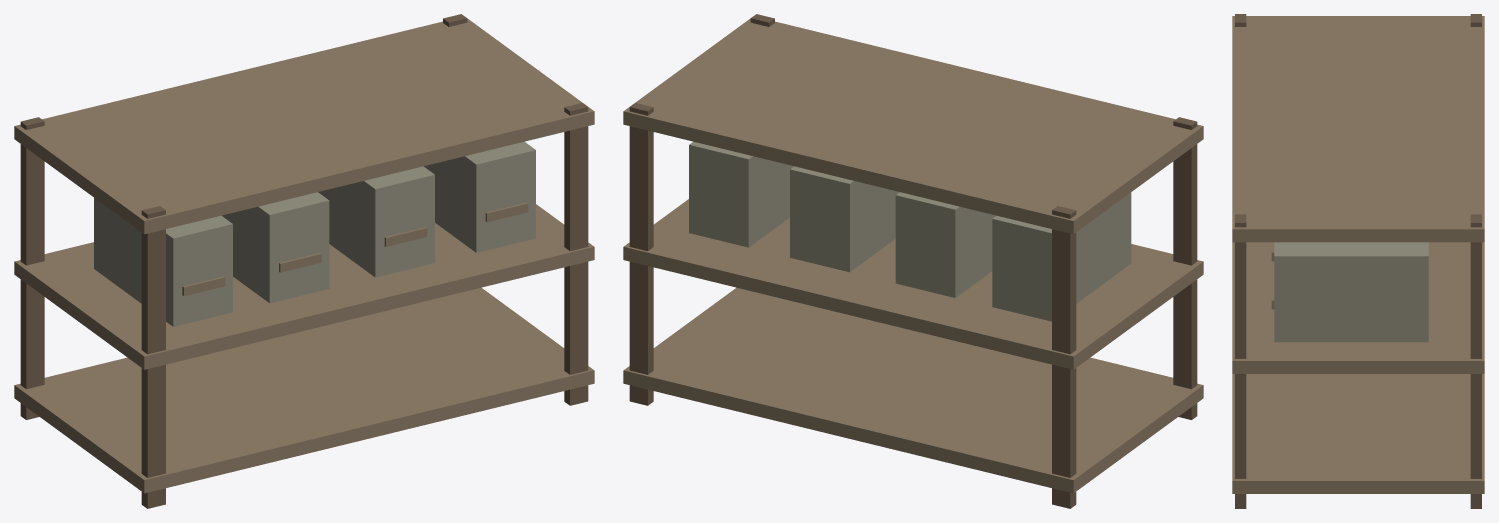
File: hymn_shelf.glb
3 views of the same model, side by side, from view 1: azimuth 30°, elevation 25°; view 2: azimuth 150°, elevation 25°; view 3: azimuth 270°, elevation 25° (orthographic). The views are drawn at different scales.
Parts seen in each view (by area): view 1: hymn_shelf; view 2: hymn_shelf; view 3: hymn_shelf.
Boxes of the visible parts, box(x1,y1,x2,y2) form: hymn_shelf: box(14, 14, 594, 508); hymn_shelf: box(623, 14, 1203, 508); hymn_shelf: box(1232, 14, 1484, 508).
Bounding box in the file's own units: 1.92 × 1.2 × 0.96.
